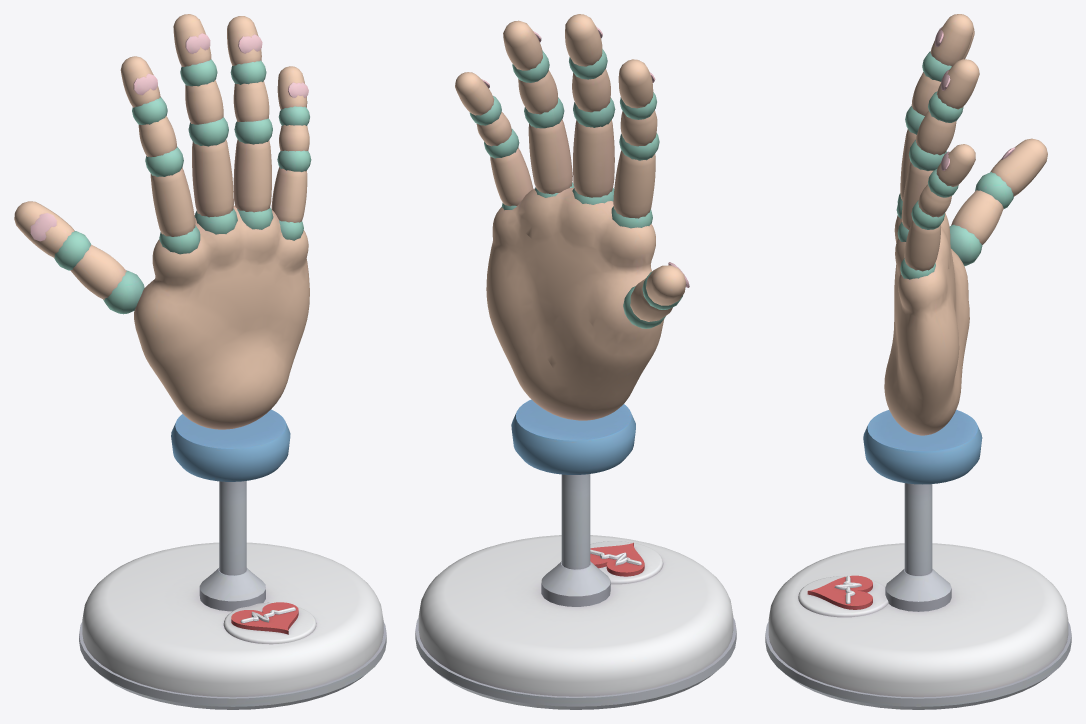
File: human-hand.obj
3 views of the same model, side by side, from view 1: azimuth 30°, elevation 25°; view 2: azimuth 150°, elevation 25°; view 3: azimuth 270°, elevation 25° (orthographic). The views are drawn at different scales.
Visible parts, largest first — view 1: human-hand_body; view 2: human-hand_body; view 3: human-hand_body.
Part boxes in pixels (left/top/right/bottom): human-hand_body: left=14, top=14, right=386, bottom=709; human-hand_body: left=415, top=14, right=736, bottom=709; human-hand_body: left=765, top=14, right=1071, bottom=709.
Bounding box in the file's own units: 0.1583 × 0.3221 × 0.144.
1 material, 1 textured.
